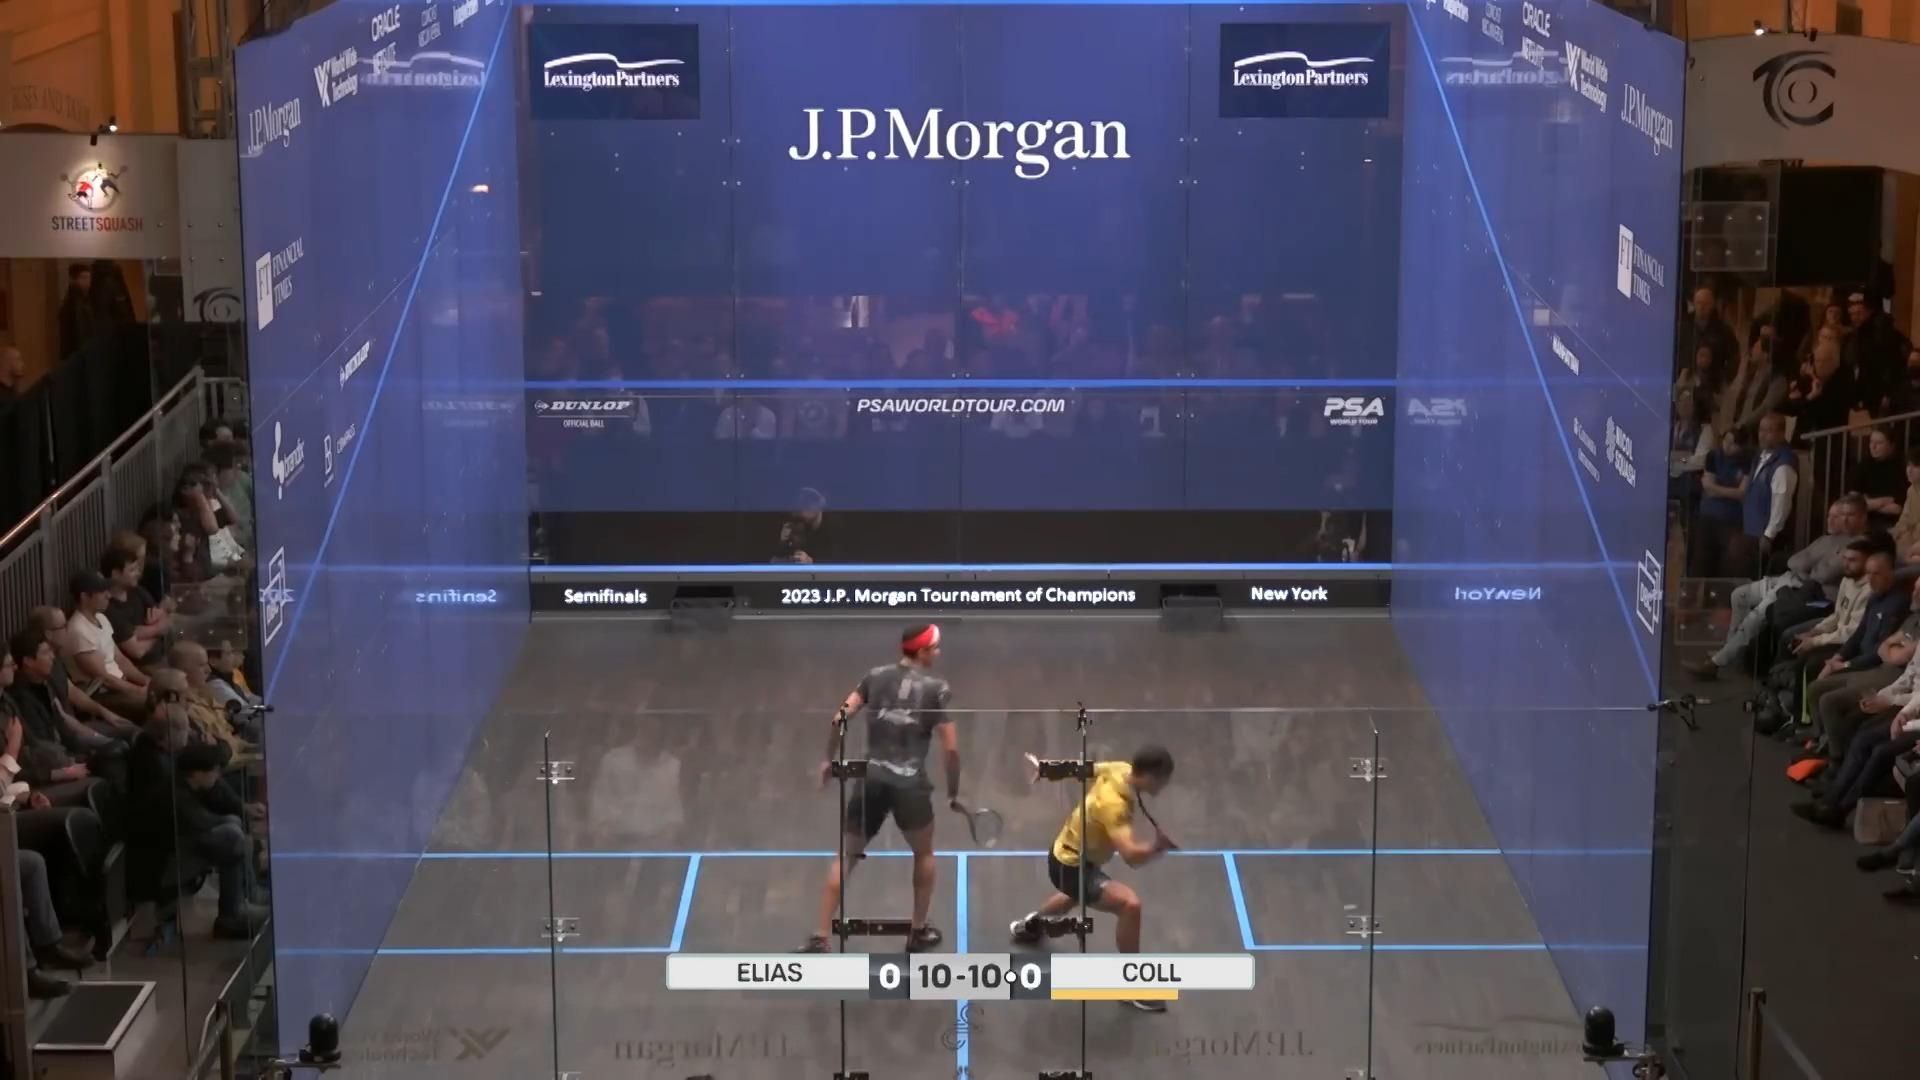Racket: (948, 785, 1010, 855)
